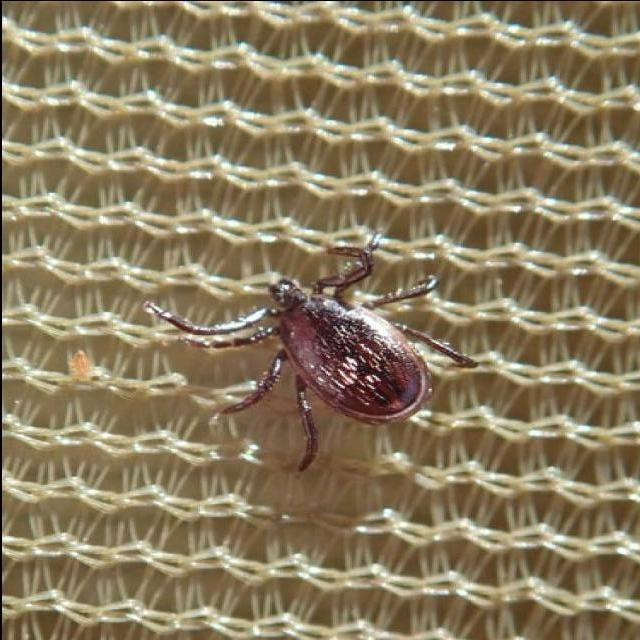Ixodes Ricinus-M: (140, 232, 476, 467)
